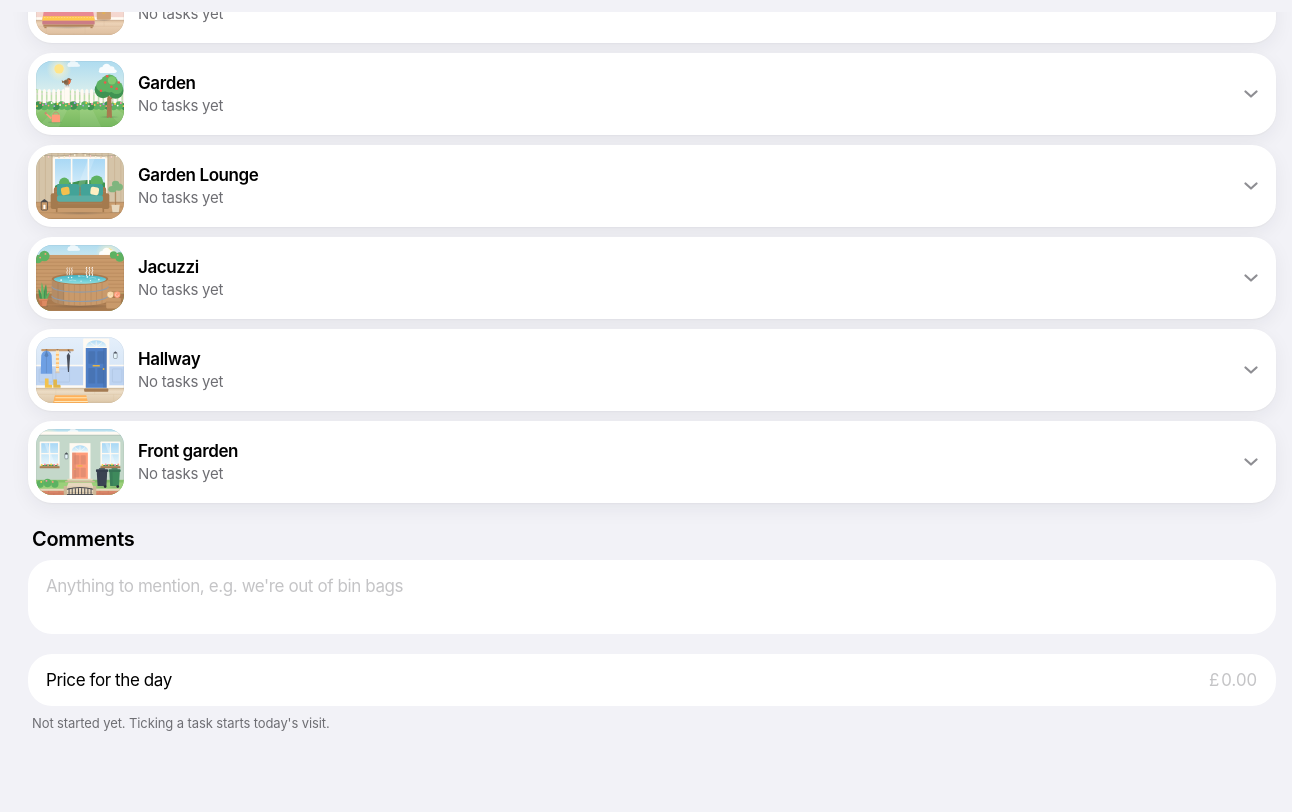
Test: Housekeeping with the provider › keeps comments, the message and the price typed while offline, and saves them once back
(page scrolled)
In the text box labelled "Comments": point(652, 597) [28,560,1276,634], type "Out of bin bags, the hoover bag is full and the boiler is making a noise again."
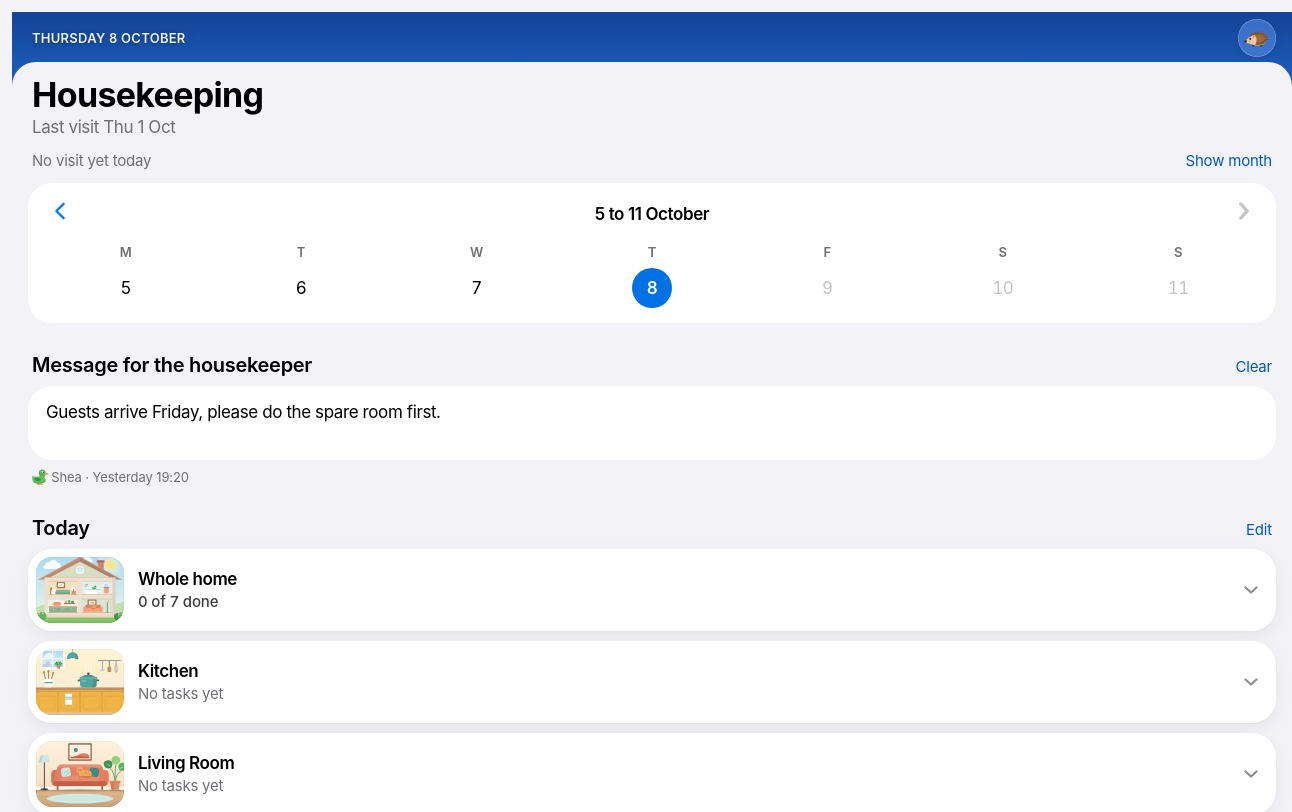
Replace the text in the text box labelled "Message for the housekeeper" with "Guests arrive Friday. Please do the spare room first, then change all the beds.": point(652, 423) [28,386,1276,460]
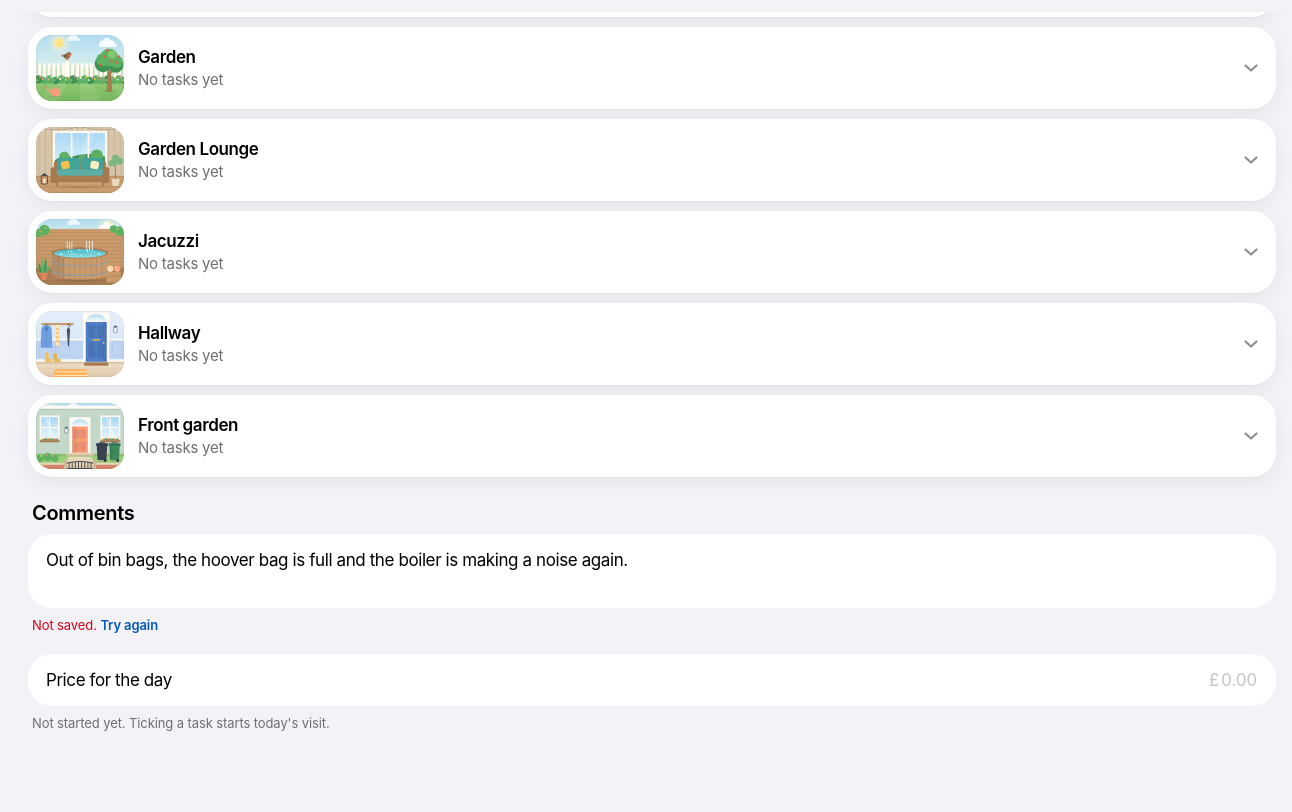
In the field labelled "Price for the day": point(1240, 680) [1221,654,1258,706], type "62.50"
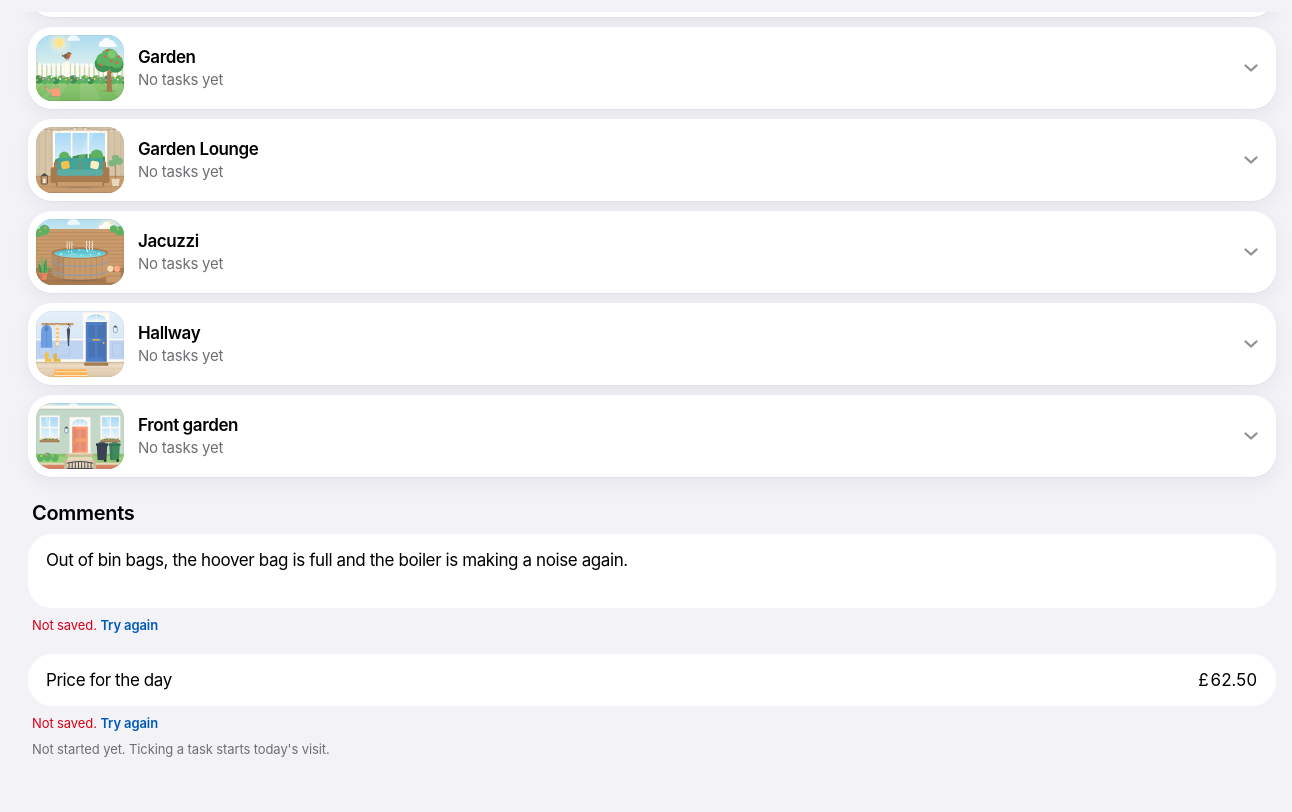
Expected: the text "Not saved." is shown 3 times
Click the button with aria-label "Try again to save the comments": point(129, 625) [100,616,158,634]
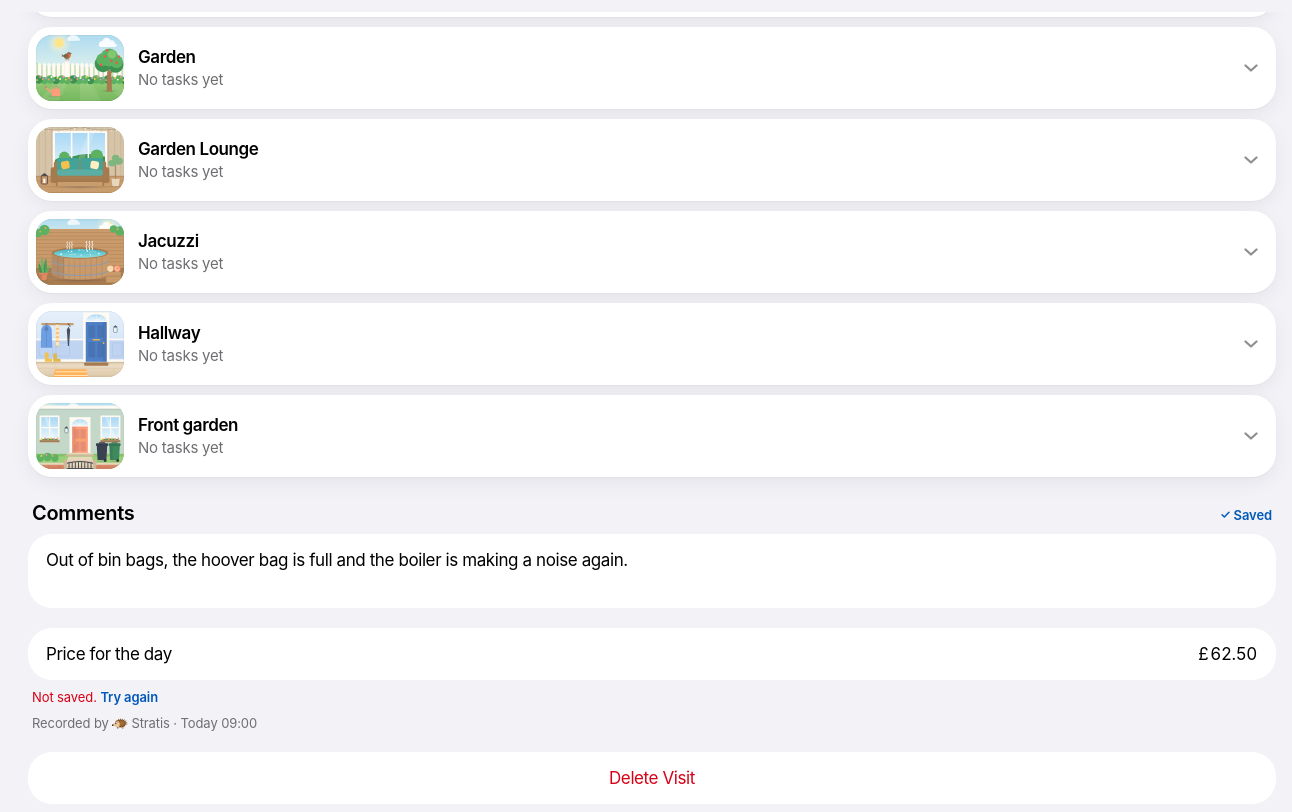
Click the button with aria-label "Try again to save the price": point(129, 697) [100,688,158,706]
(page scrolled)
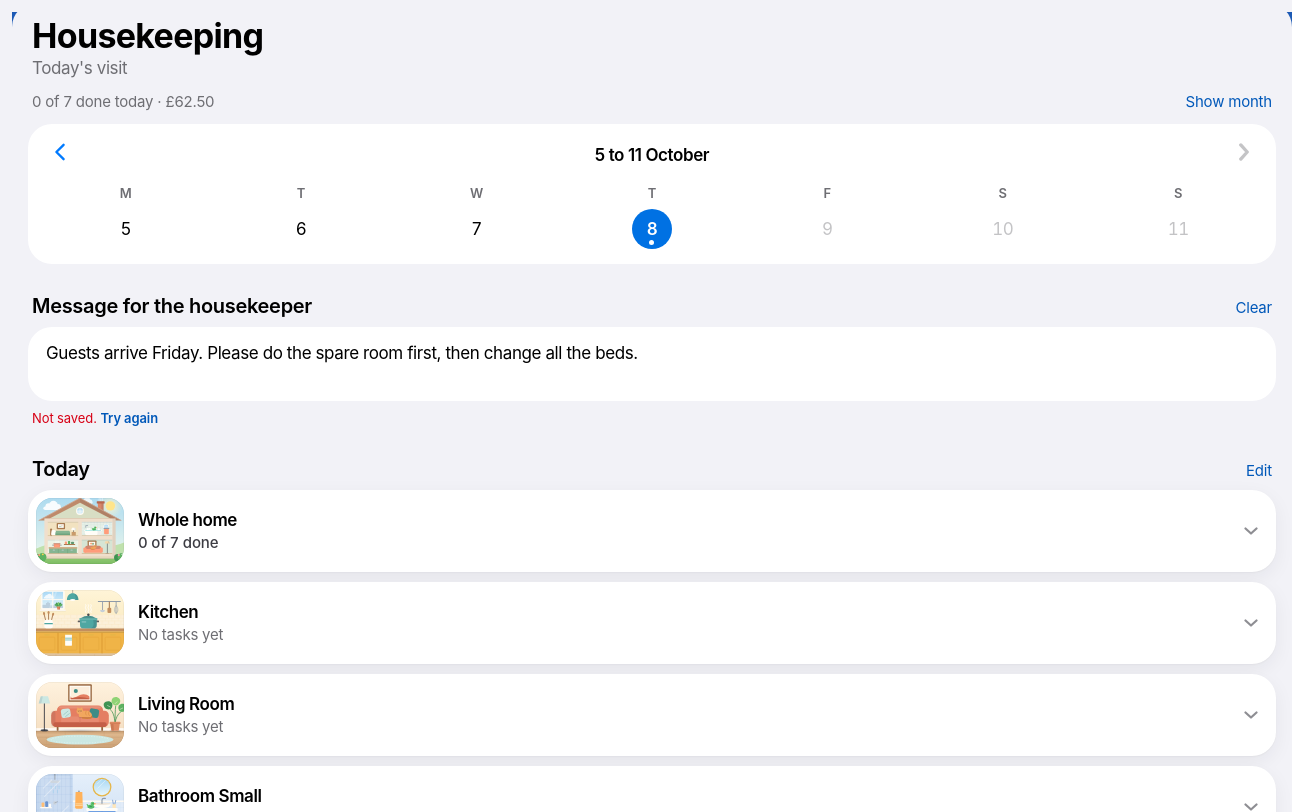
Click the button with aria-label "Try again to save the message": point(129, 418) [100,409,158,427]
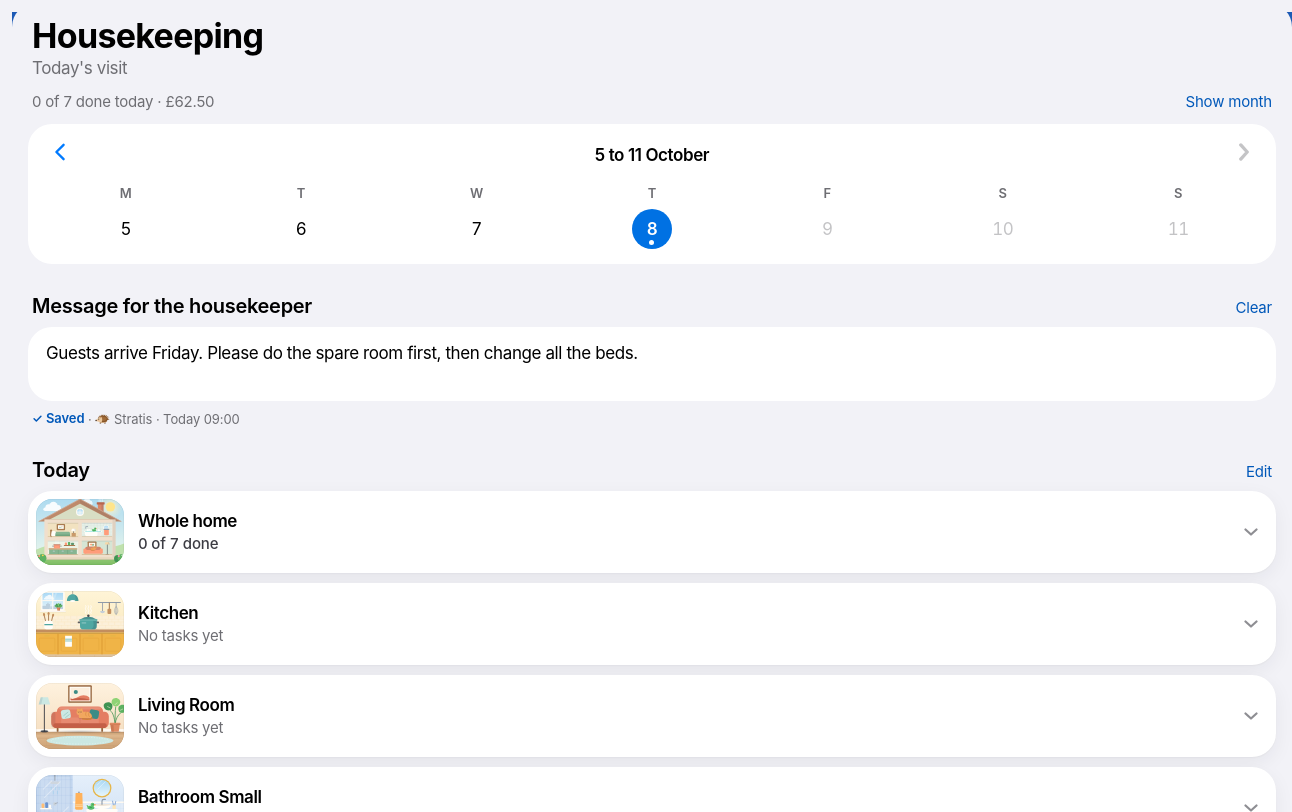
Expected: the text "Not saved." is not shown
